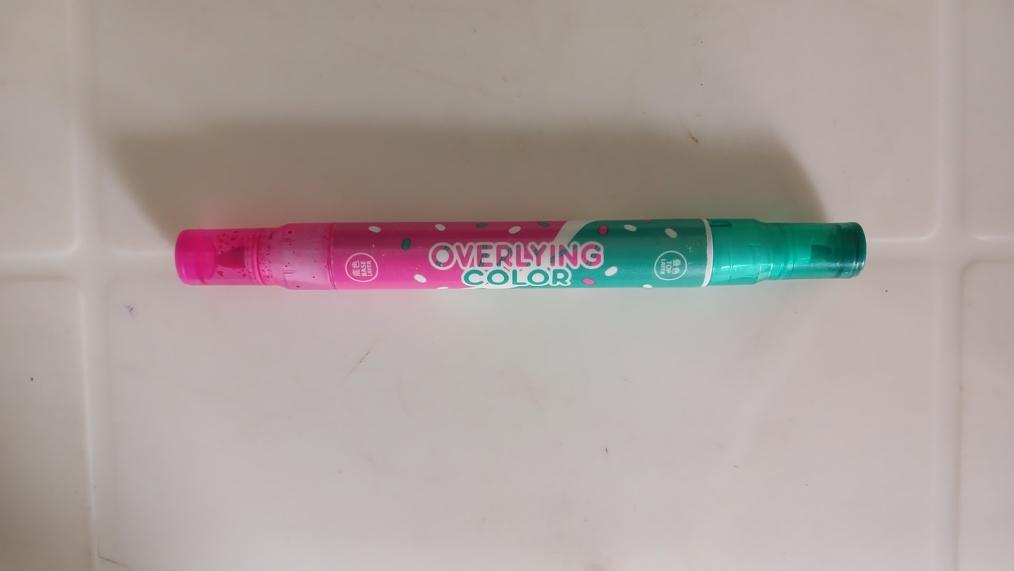Highlighter: (176, 219, 867, 287)
